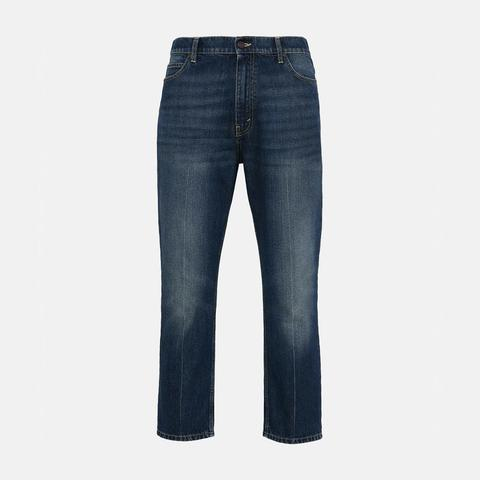Jeans: (147, 32, 336, 456)
